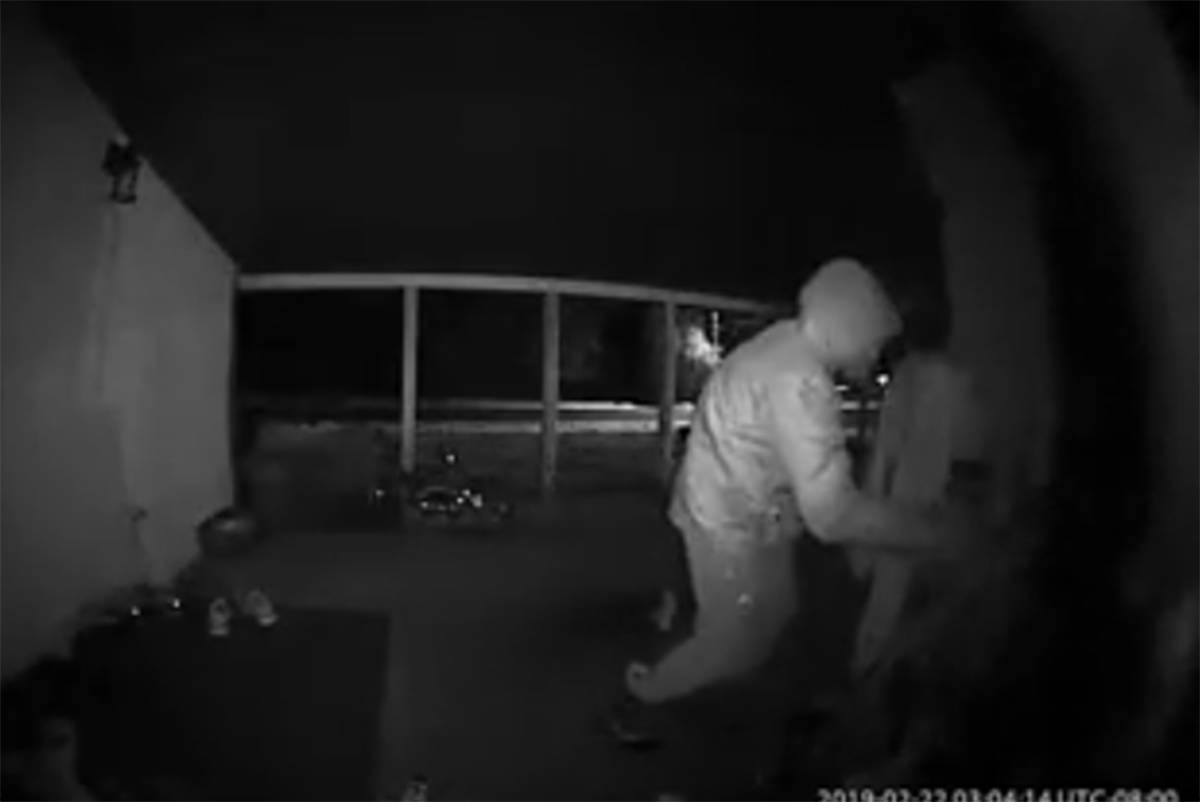person: (634, 256, 962, 732)
